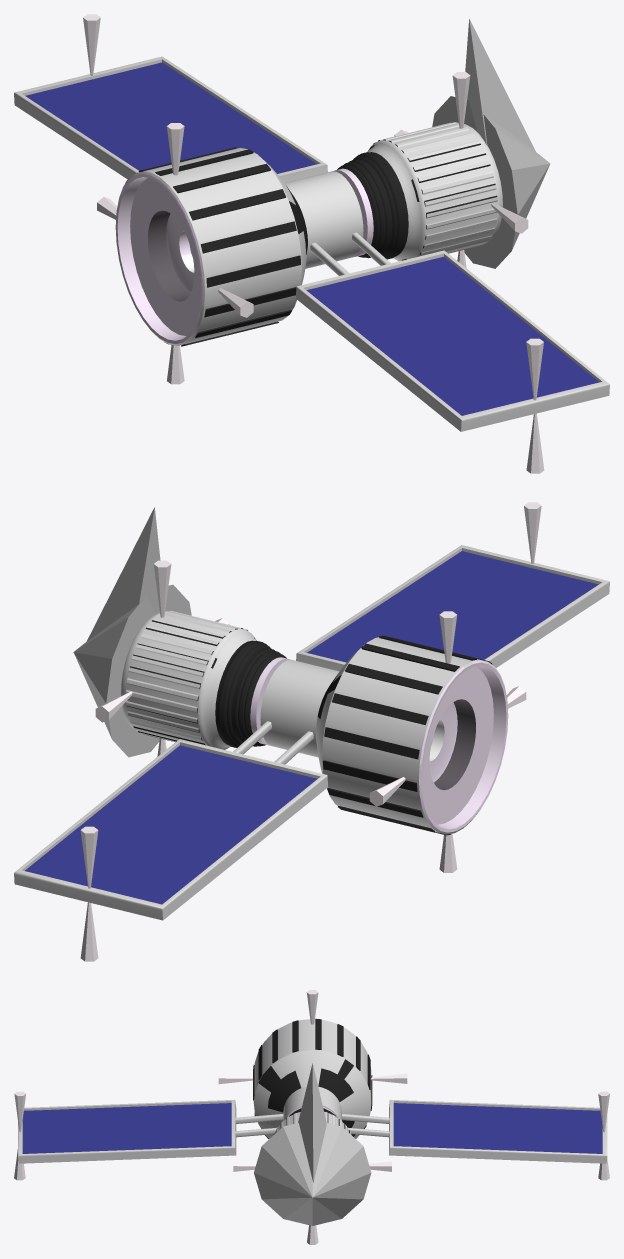
Rendered from Satellite2.obj.
3 renders of one model, top to bottom at view 1: azimuth 30°, elevation 25°; view 2: azimuth 150°, elevation 25°; view 3: azimuth 270°, elevation 25°, orthographic. The views are drawn at different scales.
Parts seen in each view (by area): view 1: Placas_Cylinder.001, Satélite_Cylinder.004, Shild_Cone.001, Cone.001_Cone.002, Couro_Cylinder, Cone_Cone.001, Cone.003_Cone.004, Cone.006_Cone.007, Cone.004_Cone.005; view 2: Placas_Cylinder.001, Satélite_Cylinder.004, Shild_Cone.001, Cone.001_Cone.002, Couro_Cylinder, Cone_Cone.001, Cone.002_Cone.003, Cone.006_Cone.007, Cone.004_Cone.005; view 3: Placas_Cylinder.001, Satélite_Cylinder.004, Shild_Cone.001, Cone.001_Cone.002.
Boxes of the visible parts, box(x1,y1,x2,y2) form: Placas_Cylinder.001: box(14, 56, 609, 431); Satélite_Cylinder.004: box(115, 122, 502, 346); Shild_Cone.001: box(432, 96, 550, 268); Cone.001_Cone.002: box(83, 14, 535, 151); Couro_Cylinder: box(337, 152, 408, 259); Cone_Cone.001: box(526, 338, 543, 400); Cone.003_Cone.004: box(526, 413, 544, 473); Cone.006_Cone.007: box(452, 72, 470, 128); Cone.004_Cone.005: box(166, 123, 184, 175); Placas_Cylinder.001: box(14, 545, 609, 920); Satélite_Cylinder.004: box(121, 610, 508, 835); Shild_Cone.001: box(73, 584, 191, 757); Cone.001_Cone.002: box(80, 507, 165, 888); Couro_Cylinder: box(215, 640, 286, 747); Cone_Cone.001: box(524, 502, 541, 563); Cone.002_Cone.003: box(80, 902, 98, 961); Cone.006_Cone.007: box(153, 560, 171, 617); Cone.004_Cone.005: box(439, 611, 457, 663); Placas_Cylinder.001: box(18, 1099, 607, 1163); Satélite_Cylinder.004: box(253, 1018, 372, 1139); Shild_Cone.001: box(254, 1123, 371, 1225); Cone.001_Cone.002: box(298, 1063, 609, 1183).
Size of the model in its own units: 5.06 by 3.6 by 10.13.
